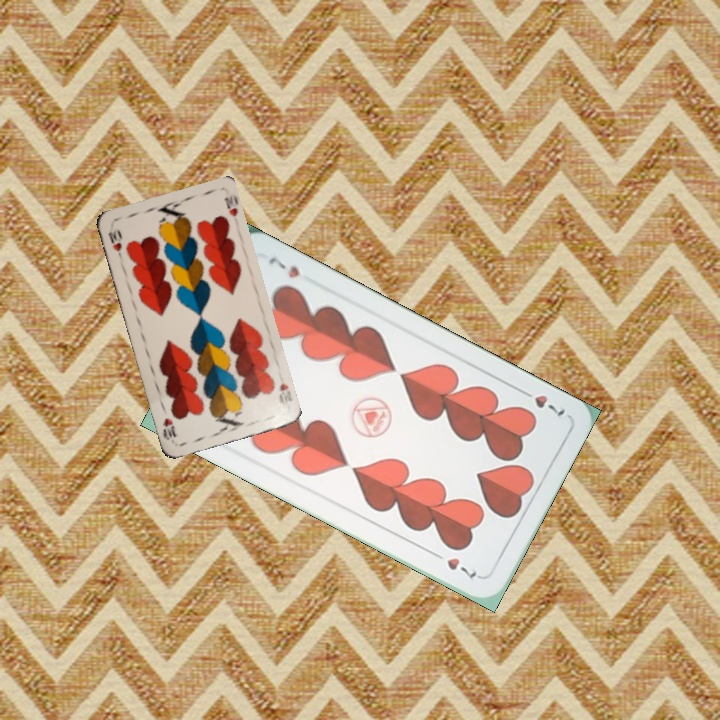H10: (104, 226, 126, 263), (275, 380, 295, 408)
H7: (515, 384, 568, 419)
